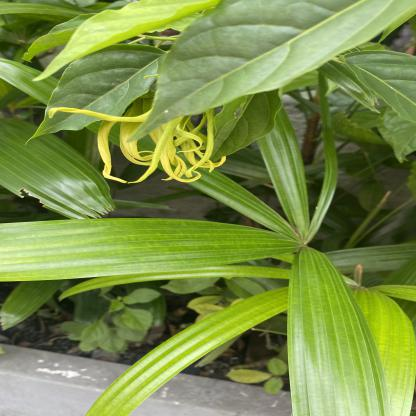Kenanga: (109, 100, 203, 178)
